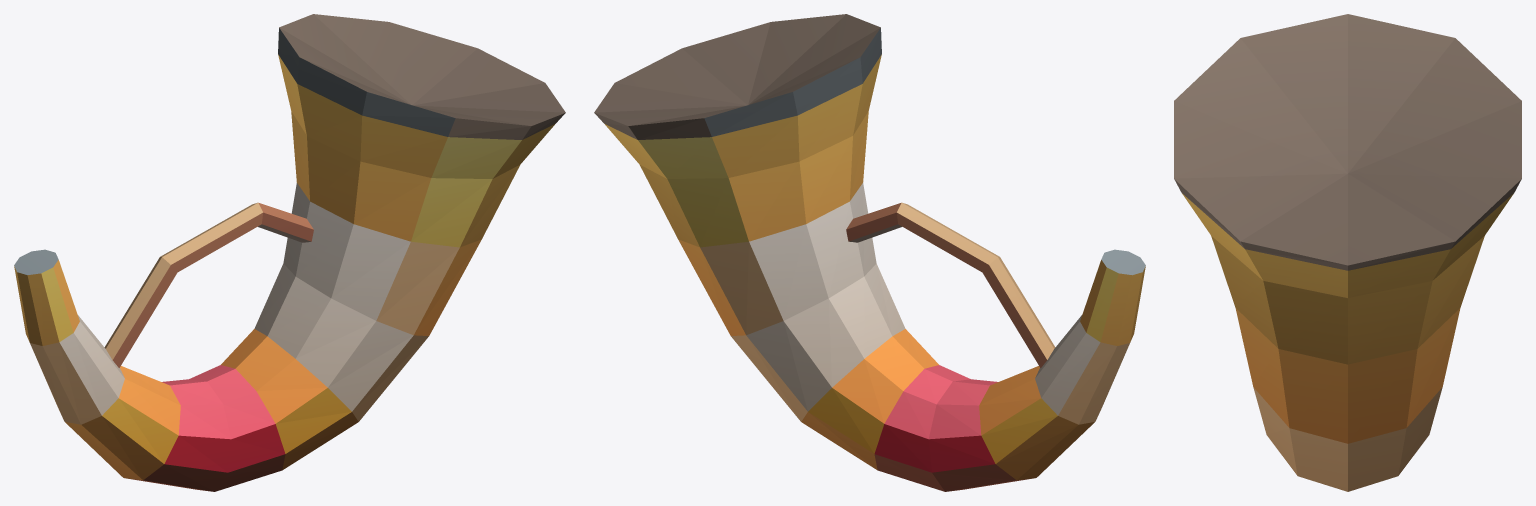
File: source.glb
3 renders of one model, left to right at view 1: azimuth 30°, elevation 25°; view 2: azimuth 150°, elevation 25°; view 3: azimuth 270°, elevation 25°, orthographic. The views are drawn at different scales.
Visible parts, largest first — view 1: model; view 2: model; view 3: model.
Part boxes in pixels (x1,y1,x2,y2): model: [14, 14, 565, 491]; model: [594, 14, 1145, 491]; model: [1174, 14, 1521, 491].
Size of the model in its own units: 0.9579 by 0.7058 by 0.447.
1 material, 1 textured.
